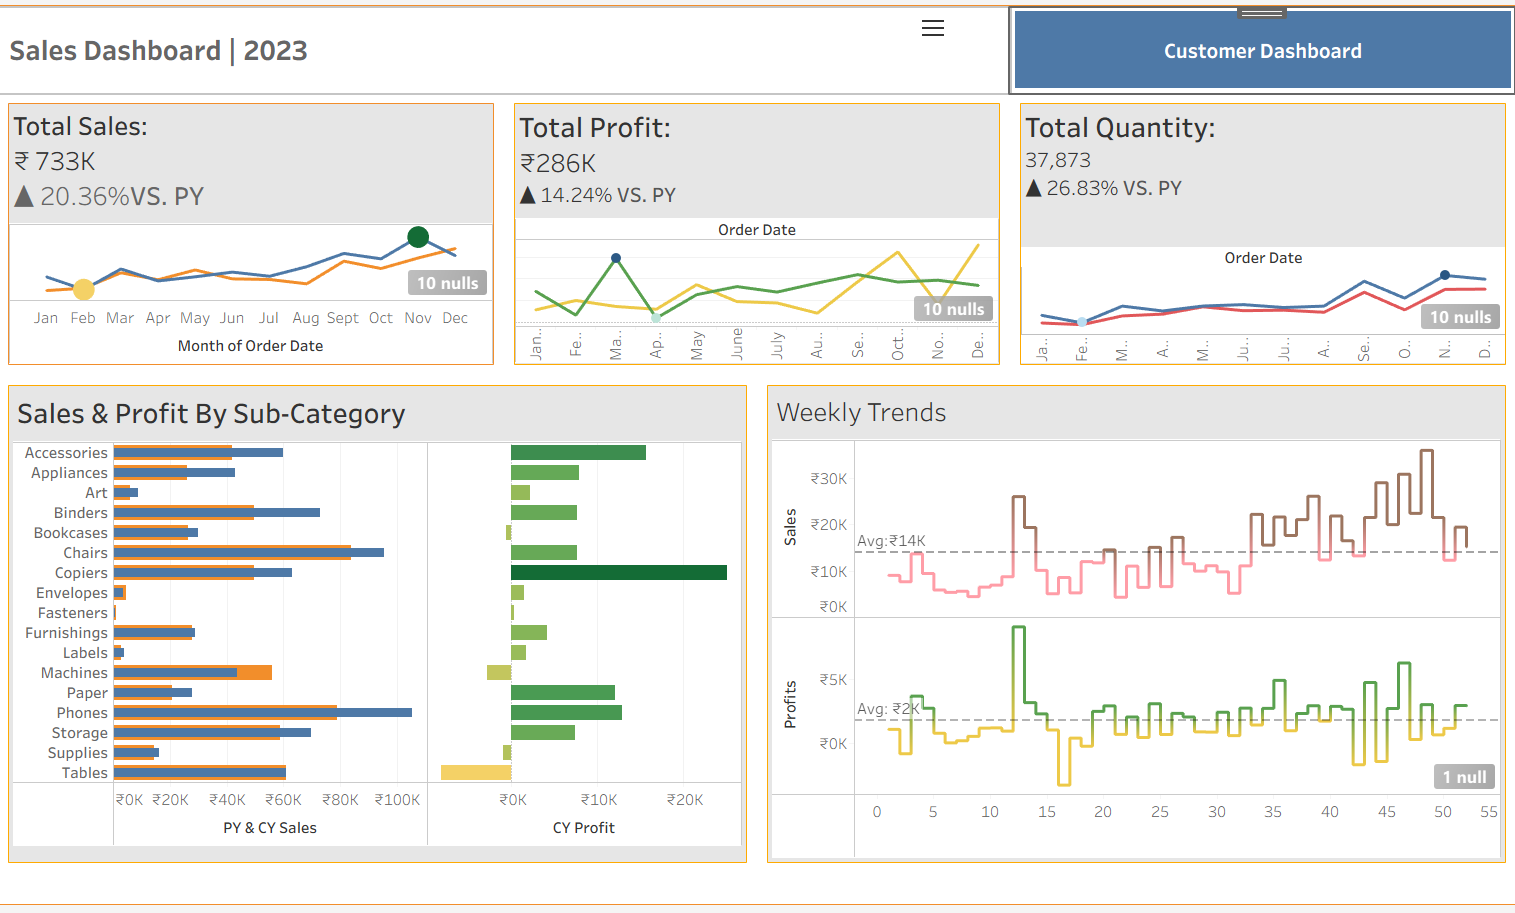

The page's visual inventory and layout, read from the dashboard file:
{"tool":"tableau","page":{"name":"Sales Dashboard","canvas":[1520,900],"ordinal":1},"visuals":[{"type":"text","box":[1,1,1012,87]},{"type":"dashboard-object","box":[1013,1,506,87]},{"type":"dashboard-object","box":[924,11,24,24]},{"type":"worksheet","title":"KPI Sales","mark":"Automatic","rows":["Calculation_0735848708030470"],"cols":["Order Date"],"box":[1,88,506,282]},{"type":"worksheet","title":"KPI Profit","mark":"Automatic","rows":["Calculation_0901875295252485"],"cols":["Order Date"],"box":[507,88,506,282]},{"type":"worksheet","title":"KPI Quantity","mark":"Automatic","rows":["Calculation_0599784826146824"],"cols":["Order Date"],"box":[1013,88,506,282]},{"type":"parameter","param":"[Parameters].[Parameter 1]","box":[1296,113,208,56]},{"type":"text","box":[1296,169,208,36]},{"type":"filter","title":"KPI Sales","param":"[federated.1tzt9hh019cmpu101plb91gmmsdu].[none:Category:nk]","box":[1296,205,208,61]},{"type":"filter","title":"KPI Sales","param":"[federated.1tzt9hh019cmpu101plb91gmmsdu].[none:Sub-Category:nk]","box":[1296,266,208,61]},{"type":"text","box":[1296,327,208,36]},{"type":"filter","title":"KPI Sales","param":"[federated.1tzt9hh019cmpu101plb91gmmsdu].[none:Region:nk]","box":[1296,363,208,61]},{"type":"worksheet","title":"Sub-category comparision","mark":"Bar","rows":["Sub-Category"],"cols":["Calculation_0735848684576769","Calculation_0735848679391232","Calculation_0901875290263554"],"box":[1,370,759,498]},{"type":"worksheet","title":"Weekly Trends","mark":"Automatic","rows":["Calculation_0735848679391232","Calculation_0901875290263554"],"cols":["Order Date"],"box":[760,370,759,498]},{"type":"filter","title":"KPI Sales","param":"[federated.1tzt9hh019cmpu101plb91gmmsdu].[none:State:nk]","box":[1296,424,208,61]},{"type":"filter","title":"KPI Sales","param":"[federated.1tzt9hh019cmpu101plb91gmmsdu].[none:City:nk]","box":[1296,485,208,61]}]}

Visuals, with their boxes in screenshot pixels (x1, y1, x2, y2), scaled from the page's 1520x900 canvas onto the 1515x913 screenshot:
text: <bbox>1, 1, 1010, 89</bbox>
dashboard-object: <bbox>1010, 1, 1514, 89</bbox>
dashboard-object: <bbox>921, 11, 945, 36</bbox>
"KPI Sales" worksheet: <bbox>1, 89, 505, 375</bbox>
"KPI Profit" worksheet: <bbox>505, 89, 1010, 375</bbox>
"KPI Quantity" worksheet: <bbox>1010, 89, 1514, 375</bbox>
parameter: <bbox>1292, 115, 1499, 171</bbox>
text: <bbox>1292, 171, 1499, 208</bbox>
"KPI Sales" filter: <bbox>1292, 208, 1499, 270</bbox>
"KPI Sales" filter: <bbox>1292, 270, 1499, 332</bbox>
text: <bbox>1292, 332, 1499, 368</bbox>
"KPI Sales" filter: <bbox>1292, 368, 1499, 430</bbox>
"Sub-category comparision" worksheet (Bar marks): <bbox>1, 375, 758, 881</bbox>
"Weekly Trends" worksheet: <bbox>758, 375, 1514, 881</bbox>
"KPI Sales" filter: <bbox>1292, 430, 1499, 492</bbox>
"KPI Sales" filter: <bbox>1292, 492, 1499, 554</bbox>
